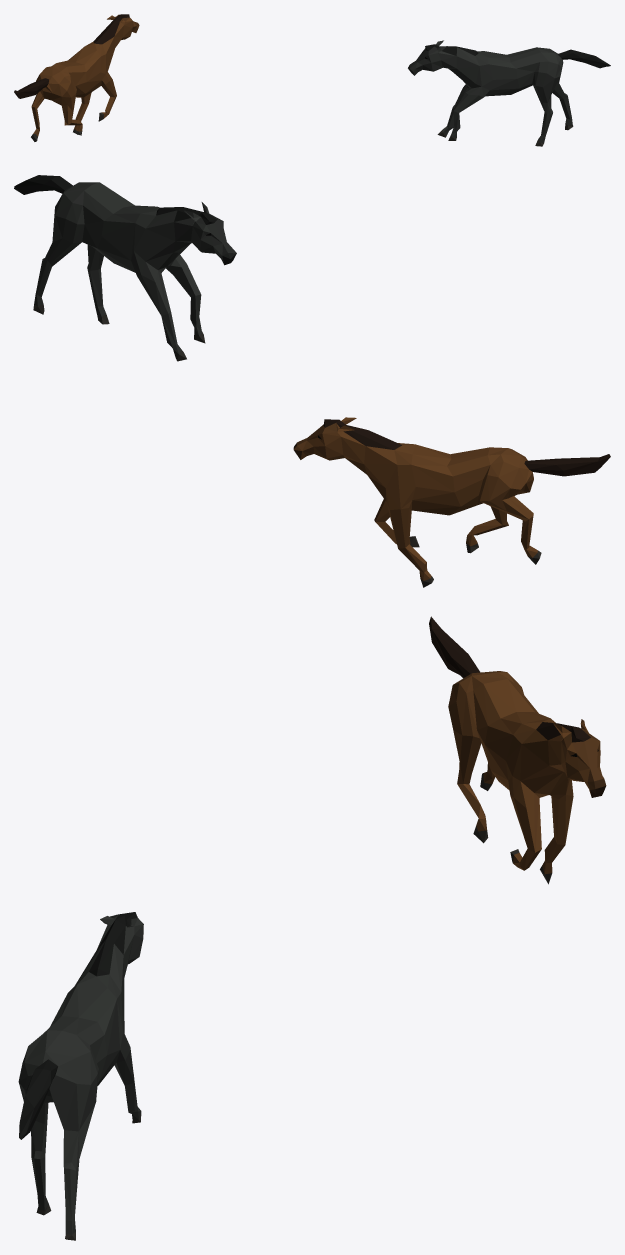
The model's file is horses2.glb.
3 renders of one model, top to bottom at view 1: azimuth 30°, elevation 25°; view 2: azimuth 150°, elevation 25°; view 3: azimuth 270°, elevation 25°, orthographic. The views are drawn at different scales.
Visible parts, largest first — view 1: horses2; view 2: horses2; view 3: horses2.
Boxes of the visible parts, x1=… form: horses2: x1=14, y1=14, x2=610, y2=146; horses2: x1=14, y1=175, x2=610, y2=587; horses2: x1=18, y1=616, x2=606, y2=1240.
Size of the model in its own units: 44.08 by 9.24 by 22.71.
